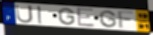E: (76, 7, 96, 28)
F: (117, 11, 137, 30)
G: (57, 7, 77, 26), (98, 10, 118, 28)
I: (36, 5, 43, 25)
U: (14, 4, 34, 24)
